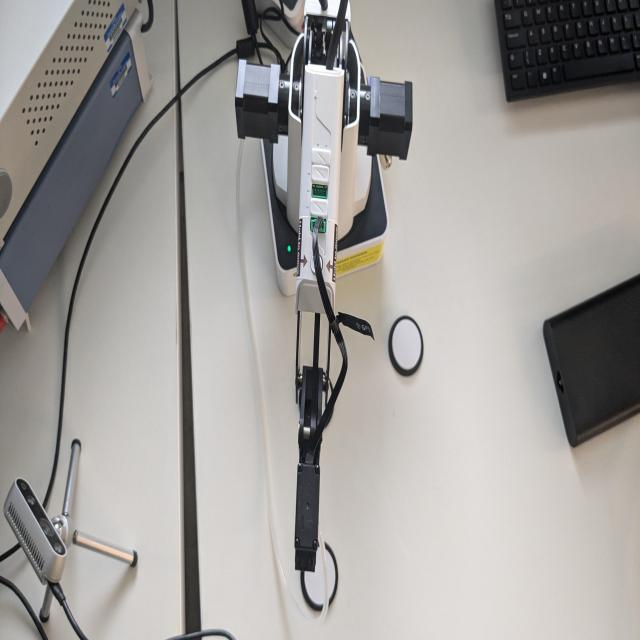Robot-end-effector-HF8z: (292, 454, 322, 578)
